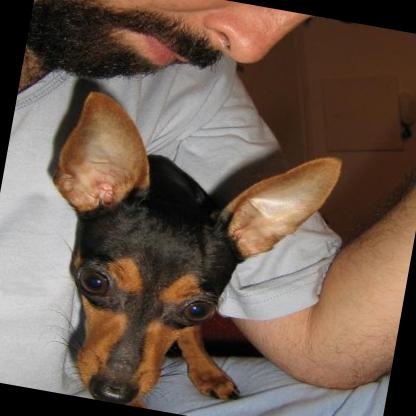miniature_pinscher: (10, 81, 349, 416)
